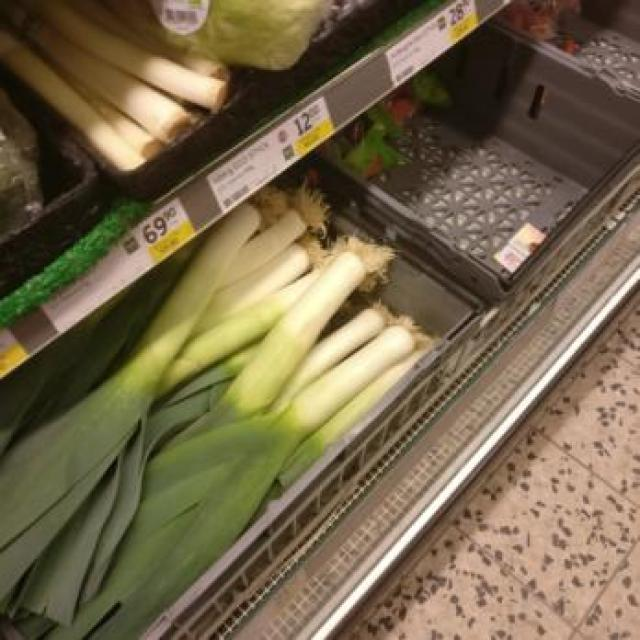Leek: (39, 259, 399, 550)
